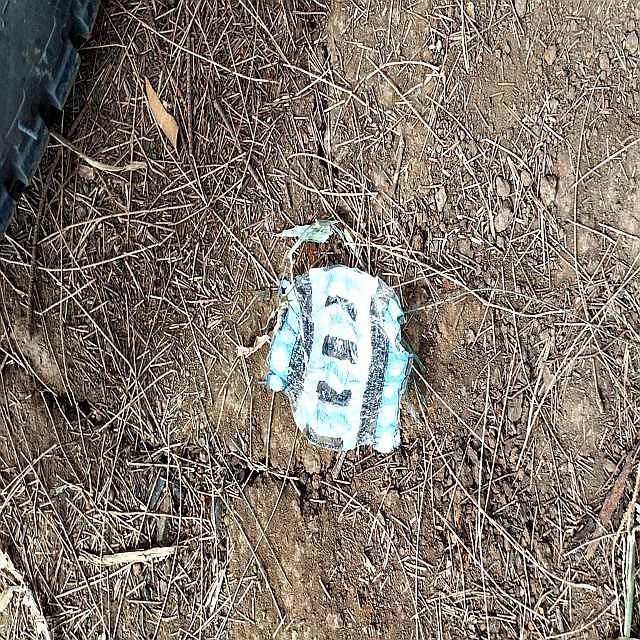Non-biodegradable: (264, 263, 415, 456)
